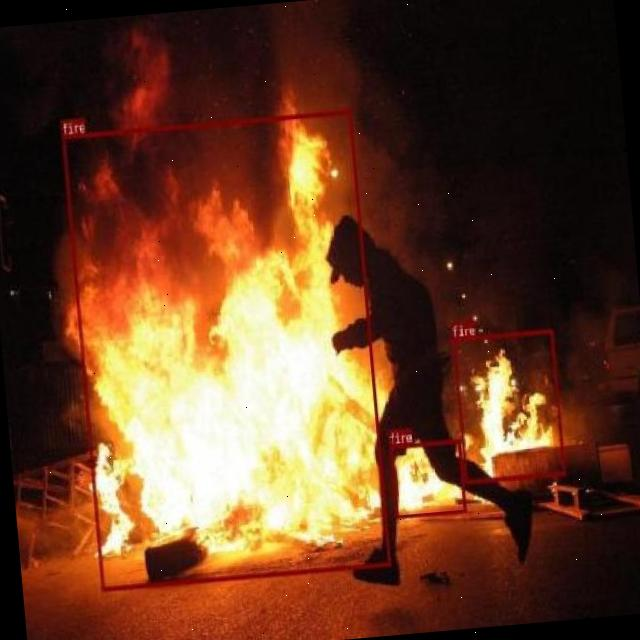fire: (61, 110, 390, 590), (450, 328, 566, 484), (389, 438, 466, 518)
